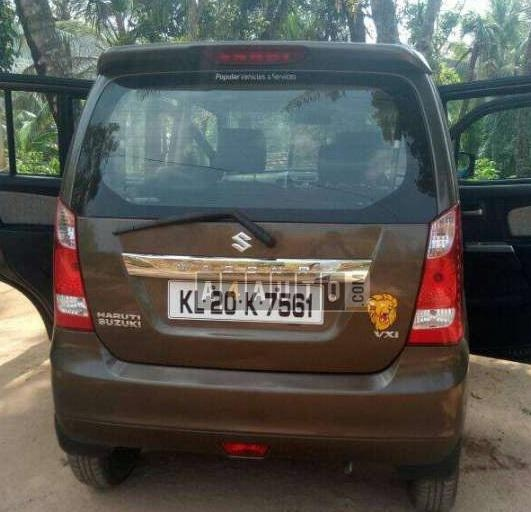number_plate: (165, 276, 328, 324)
